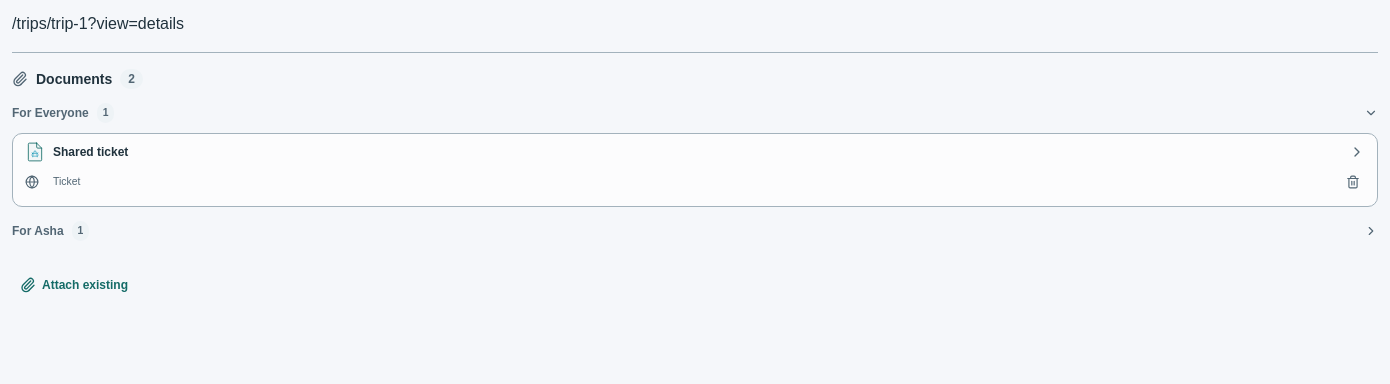
Test case: event document cards › keeps shared documents visible and collapses personal groups in compact mode
This screenshot has width=1390, height=384.
Expected: the link "Shared ticket Ticket" is shown, [13, 134, 1377, 206]
Expected: the link "Asha ticket" is not shown
Click the button with aria-label "Expand documents for Asha": coordinates (38, 231) [12, 211, 1378, 251]
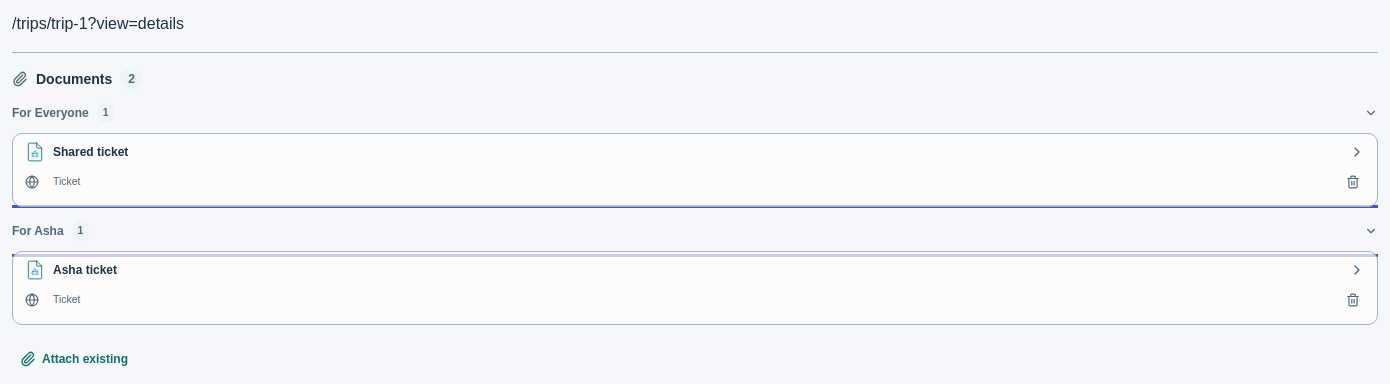
Click the button with aria-label "Collapse documents for Asha": coordinates (38, 231) [12, 211, 1378, 251]
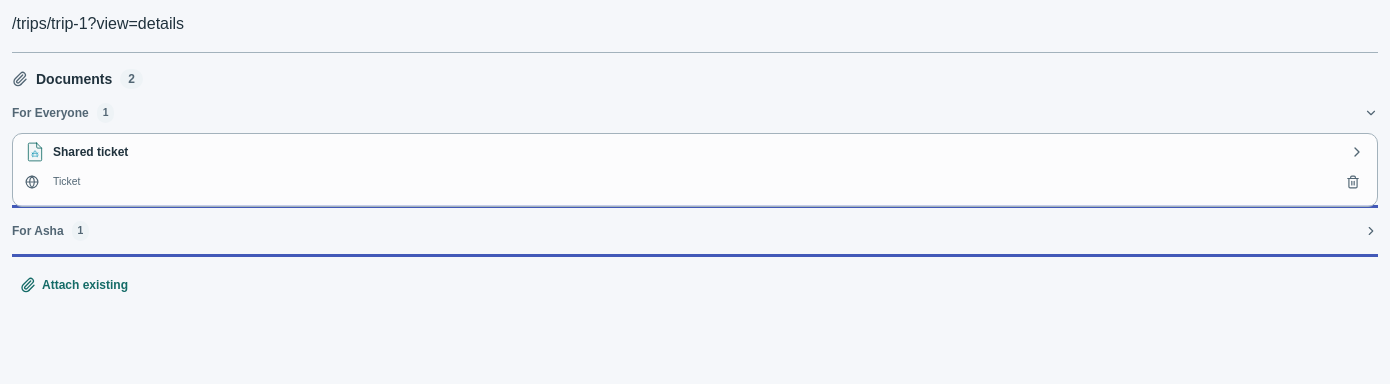
Expected: the link "Asha ticket" is gone
